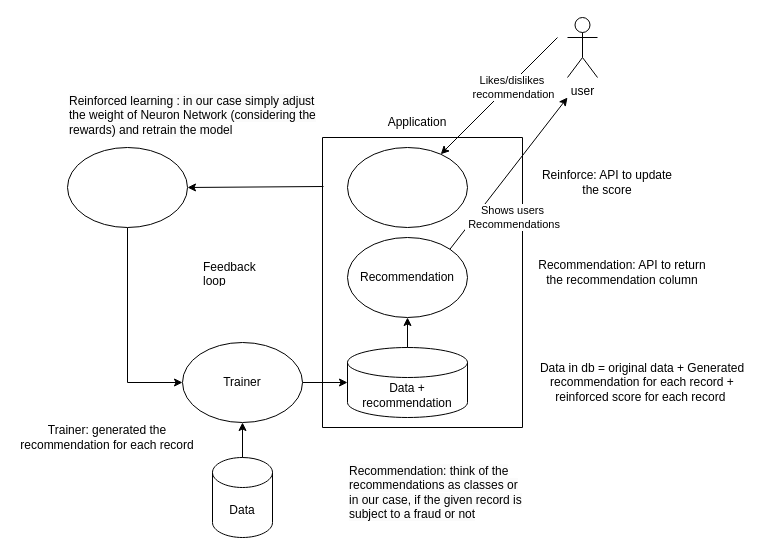
Image size: 764x555. Some labels were removed from this diagram. The box of each missing label's shape, as (x1, y1, x2, y2) in pixels:
Reinforced learning: (66, 146, 188, 228)
Reinforcer: (346, 146, 468, 228)
